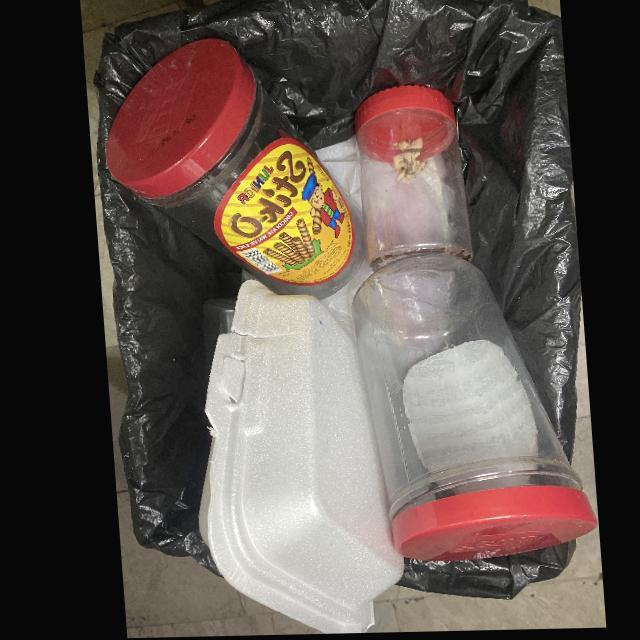plastic: (348, 256, 590, 565), (104, 39, 362, 301), (352, 88, 473, 271)
styrofoam: (190, 281, 396, 635)
